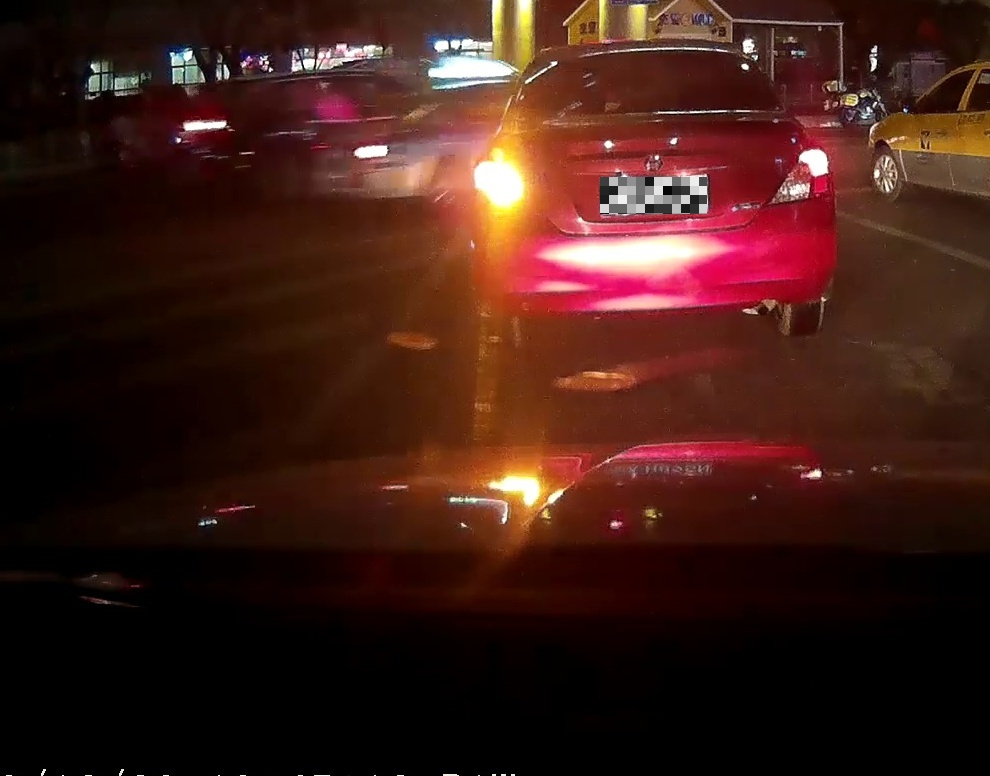L_light: (476, 153, 525, 205)
R_light: (767, 146, 831, 206)
T_light: (629, 53, 680, 62)
night-left: (475, 38, 837, 350)
plate_1: (600, 177, 707, 214)
